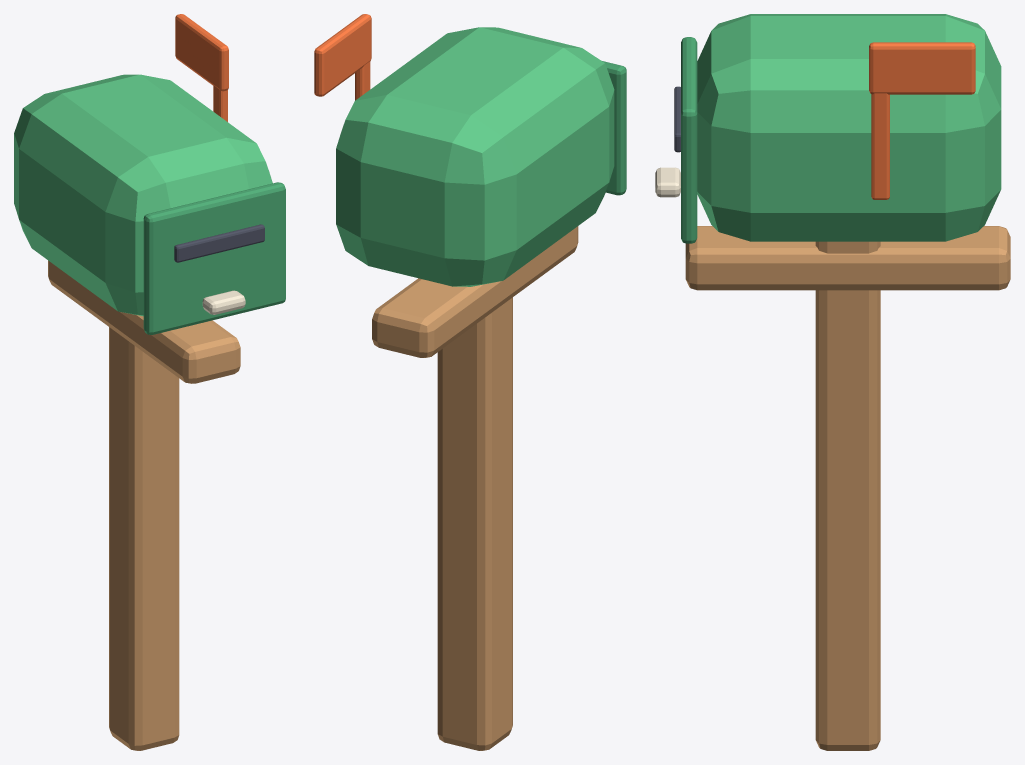
File: mailbox.glb
3 views of the same model, side by side, from view 1: azimuth 30°, elevation 25°; view 2: azimuth 150°, elevation 25°; view 3: azimuth 270°, elevation 25° (orthographic). The views are drawn at different scales.
Parts seen in each view (by area): view 1: mailbox__Body, mailbox__Post, mailbox__Door, mailbox__Crosspiece, mailbox__Flag, mailbox__Mail slot, mailbox__Handle; view 2: mailbox__Body, mailbox__Post, mailbox__Crosspiece, mailbox__Flag, mailbox__Door; view 3: mailbox__Body, mailbox__Post, mailbox__Crosspiece, mailbox__Flag, mailbox__Door, mailbox__Flag stem, mailbox__Handle.
Part boxes in pixels (x1=…): mailbox__Body: x1=14, y1=74, x2=272, y2=316; mailbox__Post: x1=109, y1=327, x2=179, y2=750; mailbox__Door: x1=143, y1=182, x2=285, y2=334; mailbox__Crosspiece: x1=48, y1=260, x2=240, y2=383; mailbox__Flag: x1=175, y1=14, x2=228, y2=91; mailbox__Mail slot: x1=174, y1=224, x2=264, y2=262; mailbox__Handle: x1=202, y1=290, x2=245, y2=314; mailbox__Body: x1=336, y1=27, x2=614, y2=286; mailbox__Post: x1=437, y1=297, x2=512, y2=750; mailbox__Crosspiece: x1=372, y1=226, x2=578, y2=357; mailbox__Flag: x1=314, y1=14, x2=371, y2=96; mailbox__Door: x1=602, y1=61, x2=626, y2=195; mailbox__Body: x1=697, y1=14, x2=1001, y2=241; mailbox__Post: x1=815, y1=241, x2=880, y2=750; mailbox__Crosspiece: x1=685, y1=226, x2=1010, y2=290; mailbox__Flag: x1=869, y1=42, x2=975, y2=94; mailbox__Door: x1=681, y1=37, x2=697, y2=243; mailbox__Flag stem: x1=871, y1=93, x2=889, y2=199; mailbox__Handle: x1=655, y1=167, x2=680, y2=197.
Size of the model in its own units: 0.0996 by 0.356 by 0.1531.
